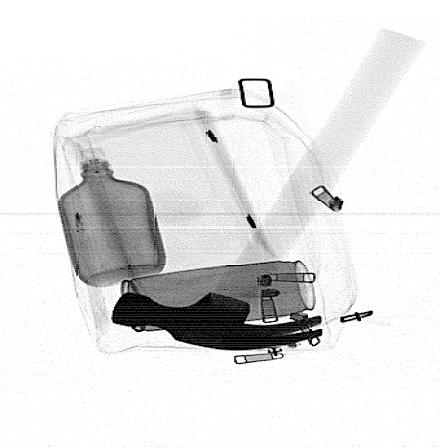Hammer: (110, 29, 427, 351)
